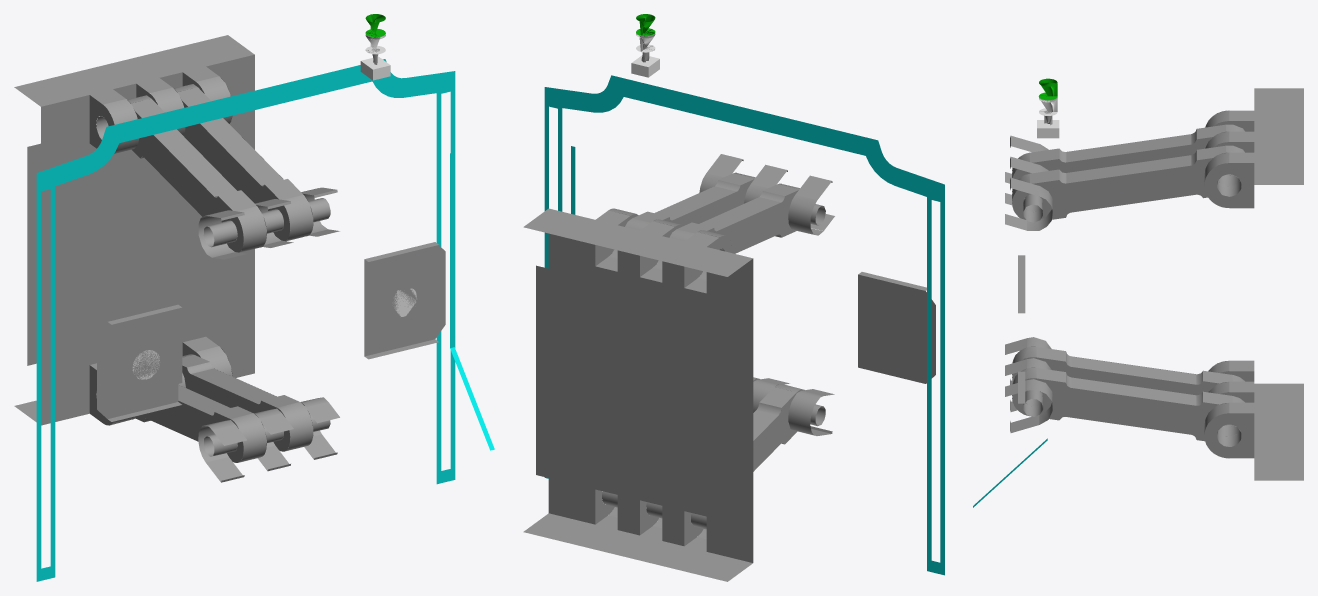
The model's file is toggle_links.dae.
The picture shows the model from 3 angles, left to right: view 1: azimuth 30°, elevation 25°; view 2: azimuth 150°, elevation 25°; view 3: azimuth 270°, elevation 25°; orthographic projection. The views are drawn at different scales.
Visible parts, largest first — view 1: ToggleLinks; view 2: ToggleLinks; view 3: ToggleLinks.
Boxes of the visible parts, x1,y1,x2,y2 form: ToggleLinks: (14, 14, 494, 581); ToggleLinks: (523, 14, 944, 581); ToggleLinks: (973, 78, 1303, 507).
Size of the model in its own units: 1.08 by 0.7981 by 1.22.
